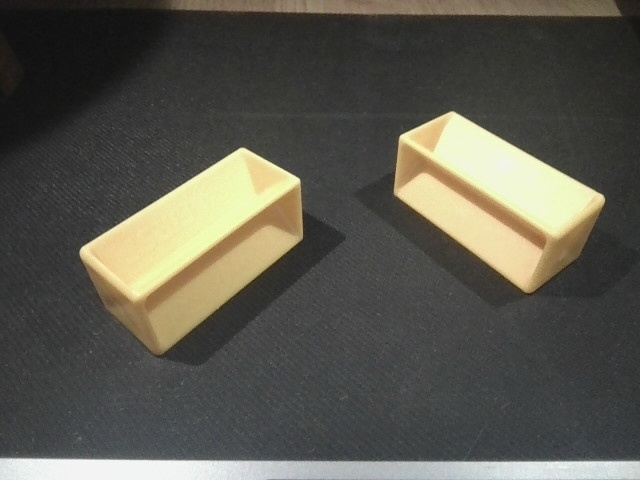YellowSample: (76, 144, 308, 360), (390, 109, 611, 297)
